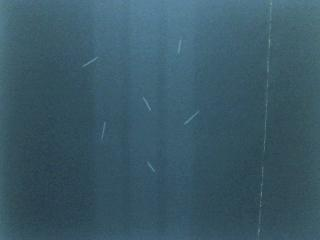scratch: (184, 110, 199, 125), (82, 56, 99, 67), (176, 37, 184, 56), (142, 96, 152, 111), (146, 161, 156, 173), (101, 121, 107, 140)
